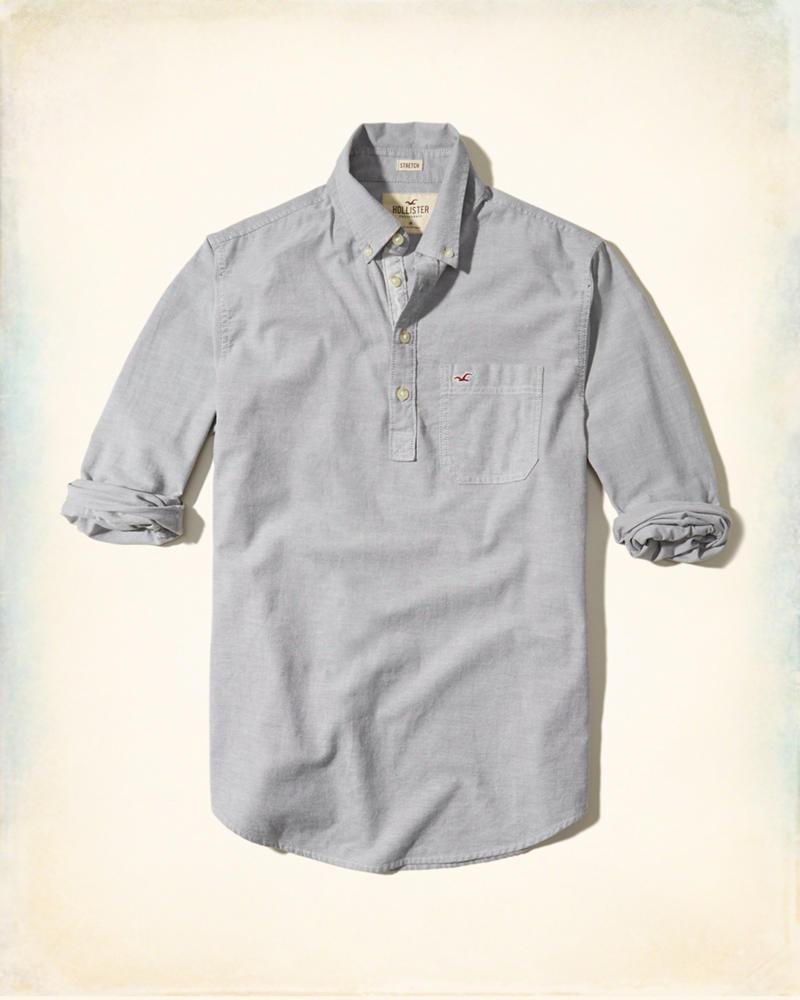teeshirt: (73, 122, 739, 859)
